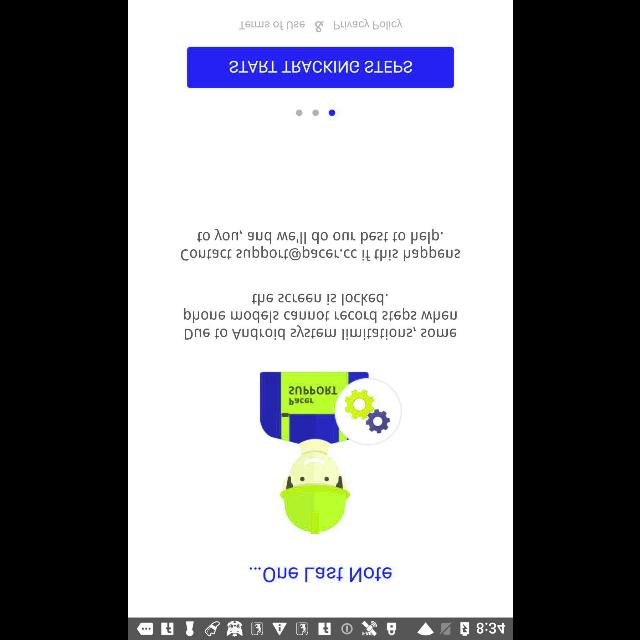image: (259, 372, 401, 534)
pageindicator: (294, 109, 336, 117)
text: (182, 293, 456, 341), (180, 228, 460, 262), (248, 566, 390, 584), (237, 19, 401, 33)
textbutton: (186, 46, 454, 88)
uppertaskbar: (128, 617, 512, 639)
